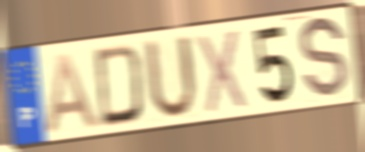5: (251, 23, 294, 106)
A: (44, 52, 104, 137)
D: (93, 42, 146, 130)
S: (298, 13, 351, 104)
U: (141, 33, 200, 123)
X: (195, 27, 249, 116)
